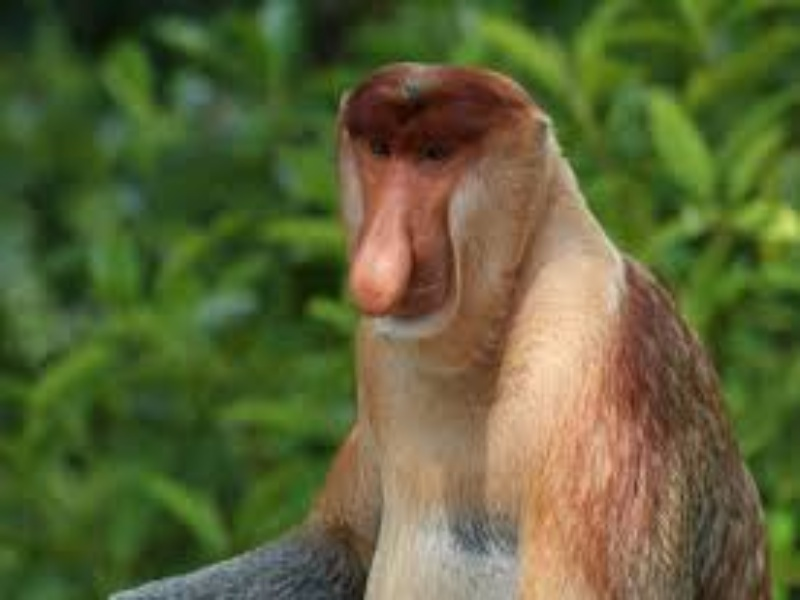monkey: (240, 51, 728, 494)
